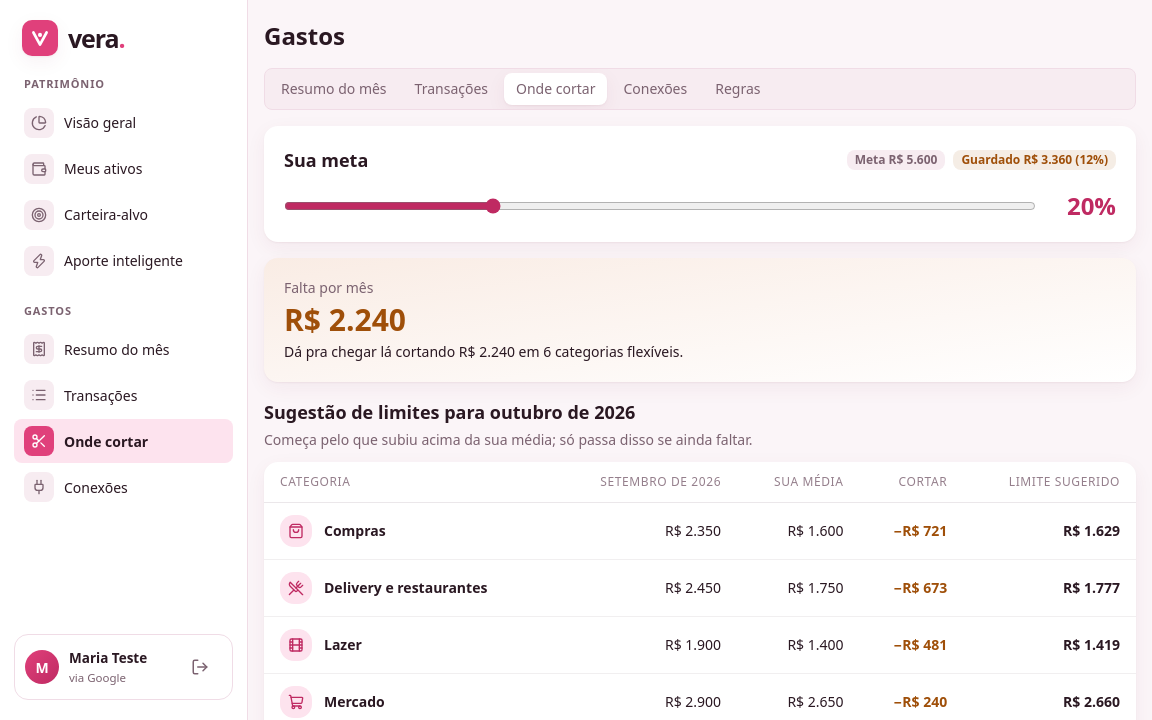
CutsPage: slider › o botão Salvar meta só aparece com a meta alterada e grava com PUT
The image size is (1152, 720).
expect the text "Falta por mês" is shown: met, box 284,278 -> 374,297
expect the button "Salvar meta" is not shown: met
Set the slider named "Meta de economia" to "35" at point(693, 206), box 284,202 -> 1036,210
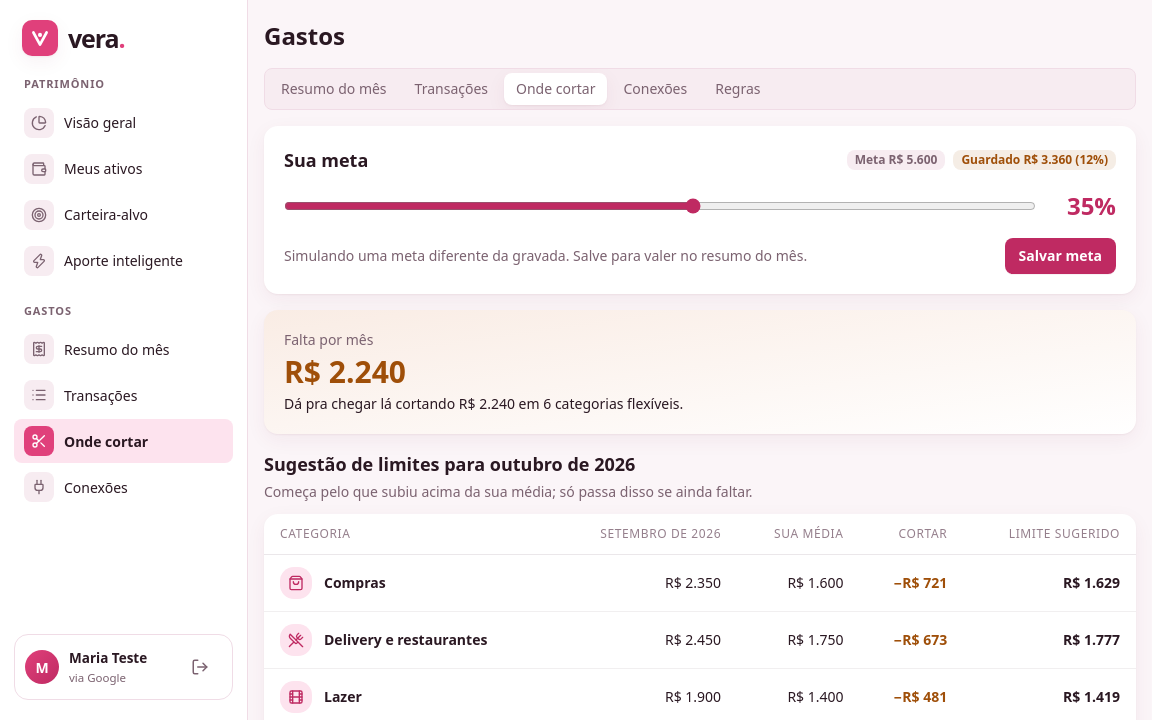
Click the button "Salvar meta" at point(1060, 256), box 1005,238 -> 1116,274
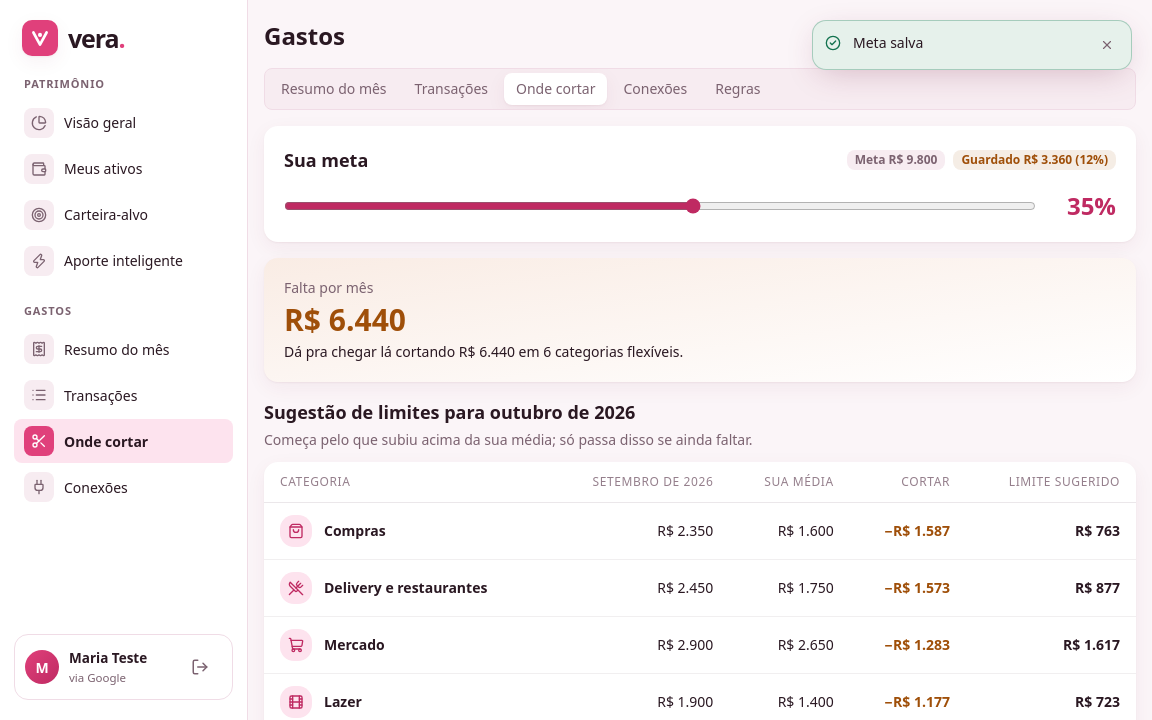
expect the text "Meta salva" is shown: met, box 853,33 -> 923,53
expect the button "Salvar meta" is gone: met
